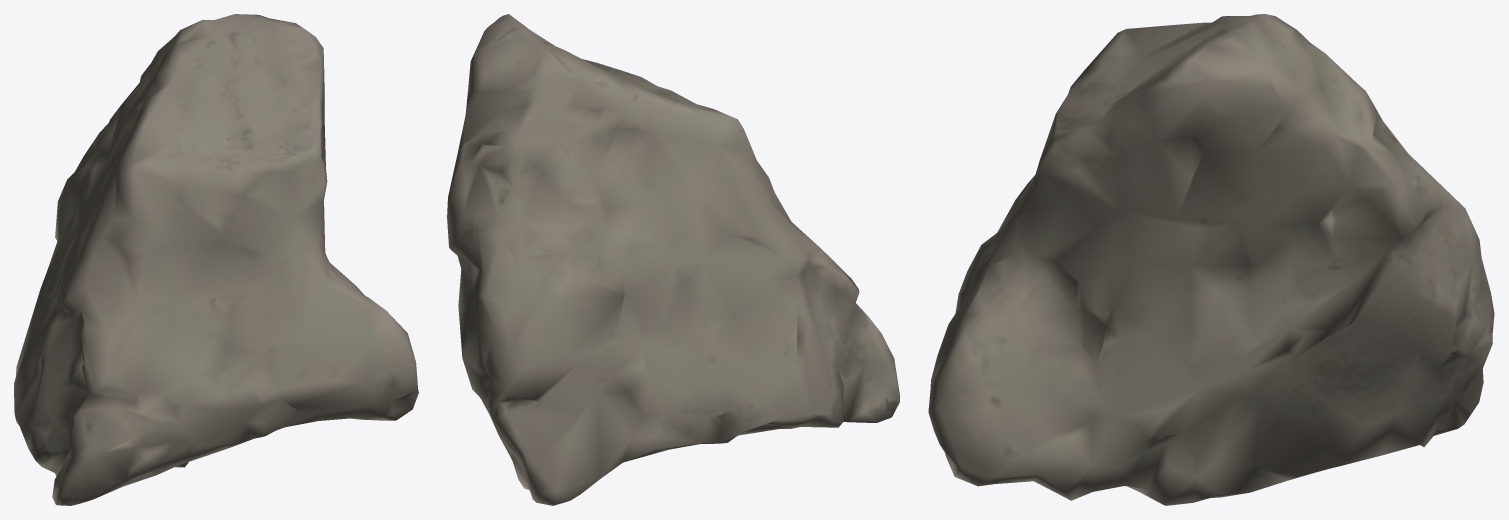
File: moon_rock_05.glb
3 renders of one model, left to right at view 1: azimuth 30°, elevation 25°; view 2: azimuth 150°, elevation 25°; view 3: azimuth 270°, elevation 25°, orthographic. The views are drawn at different scales.
Parts seen in each view (by area): view 1: moon_rock_05_LOD0; view 2: moon_rock_05_LOD0; view 3: moon_rock_05_LOD0.
Part boxes in pixels (bbox=[...]): moon_rock_05_LOD0: bbox=[14, 14, 418, 505]; moon_rock_05_LOD0: bbox=[447, 14, 899, 505]; moon_rock_05_LOD0: bbox=[928, 14, 1494, 505].
Bounding box in the file's own units: 0.0716 × 0.0734 × 0.0811.
Materials: 1 (1 with a texture image).
